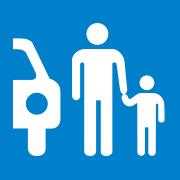Parking Lot Cars: (5, 11, 177, 168)
